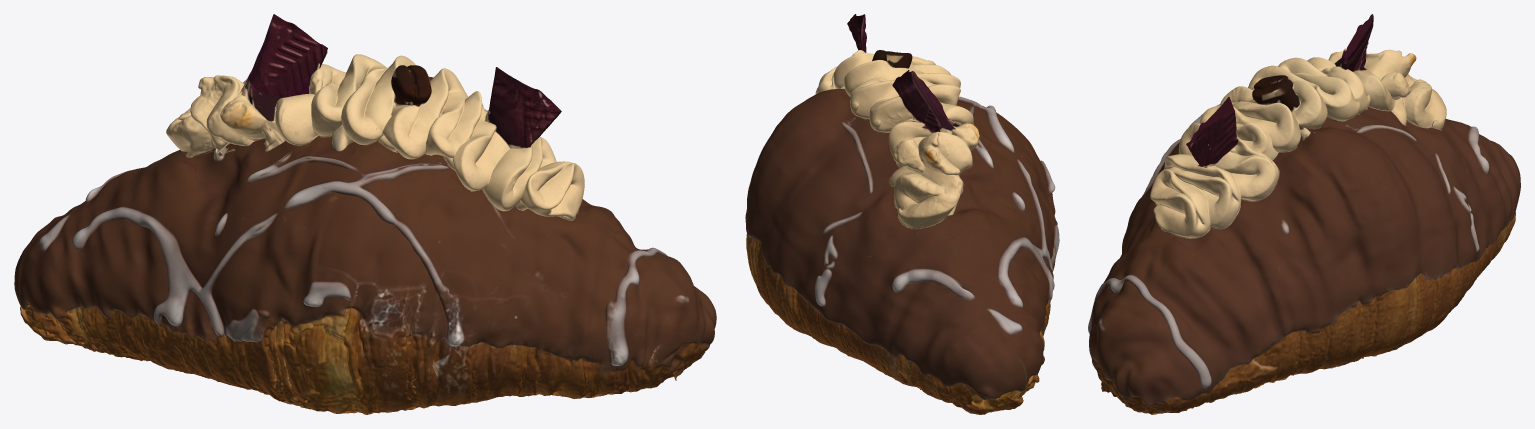
File: Chocolate_Cream_Crois-v1.glb
3 views of the same model, side by side, from view 1: azimuth 30°, elevation 25°; view 2: azimuth 150°, elevation 25°; view 3: azimuth 270°, elevation 25° (orthographic). The views are drawn at different scales.
Parts seen in each view (by area): view 1: mesh_node; view 2: mesh_node; view 3: mesh_node.
Boxes of the visible parts, box(x1,y1,x2,y2) form: mesh_node: box(14, 14, 716, 414); mesh_node: box(745, 14, 1059, 414); mesh_node: box(1088, 14, 1520, 414).
Bounding box in the file's own units: 1.9 × 1.16 × 1.62.
Materials: 1 (1 with a texture image).
